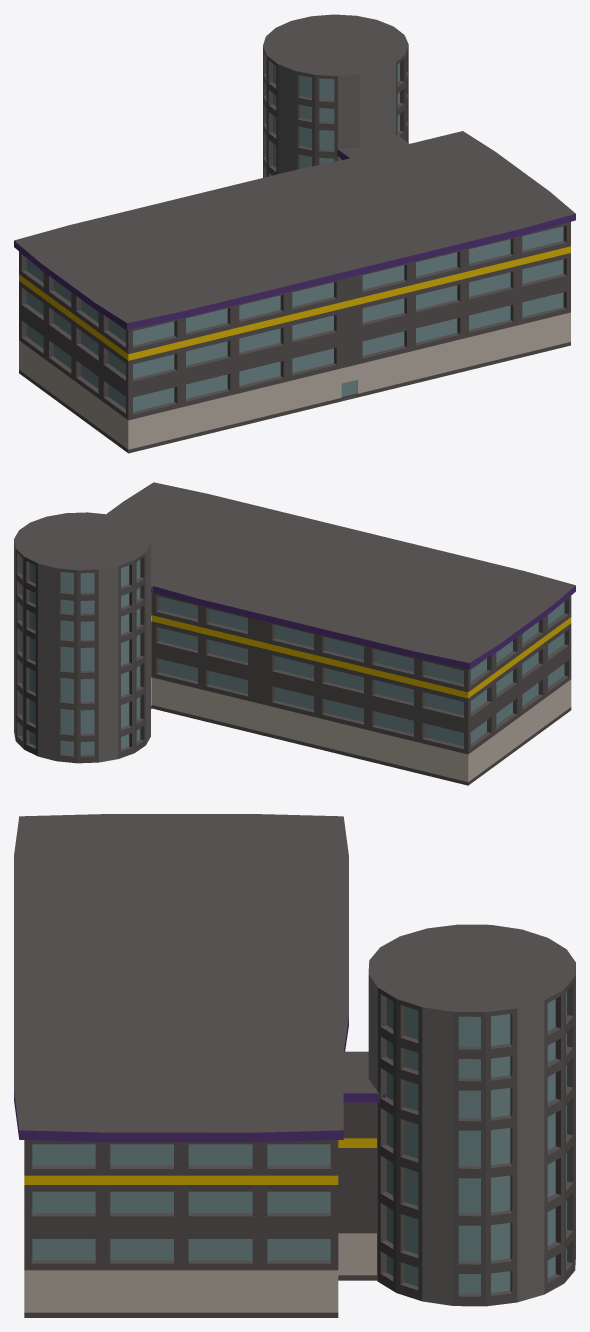
Rendered from Depot_Office_S3.fbx.
The picture shows the model from 3 angles, top to bottom: view 1: azimuth 30°, elevation 25°; view 2: azimuth 150°, elevation 25°; view 3: azimuth 270°, elevation 25°; orthographic projection. The views are drawn at different scales.
Parts seen in each view (by area): view 1: Depot_Office, High_Office; view 2: Depot_Office, High_Office; view 3: Depot_Office, High_Office.
Part boxes in pixels (<box>): Depot_Office: <box>14,131,575,453</box>; High_Office: <box>263,14,408,177</box>; Depot_Office: <box>106,482,575,785</box>; High_Office: <box>14,512,150,763</box>; Depot_Office: <box>14,814,385,1317</box>; High_Office: <box>368,924,575,1306</box>.
Size of the model in its own units: 7200 by 3101 by 5369.
